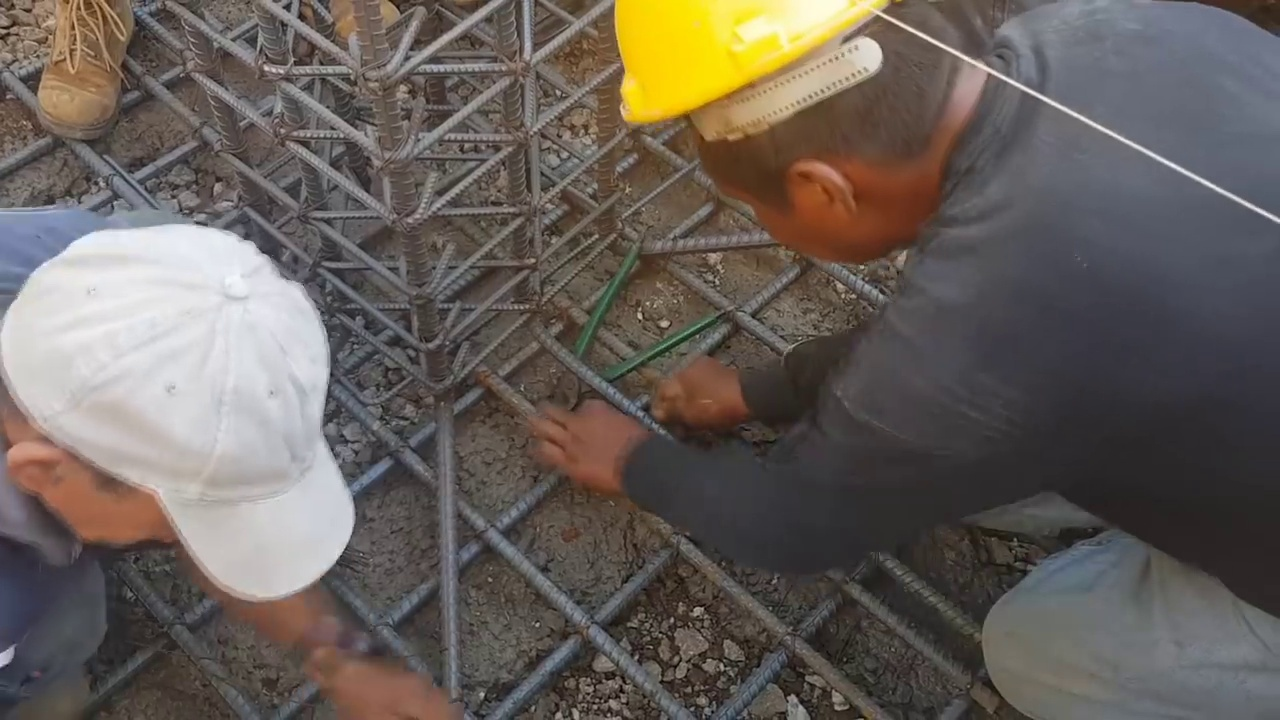helmet: (602, 2, 891, 135)
helmet-off: (0, 223, 360, 624)
helmet-on: (619, 0, 986, 237)
person: (536, 0, 1259, 682), (0, 207, 481, 713)
